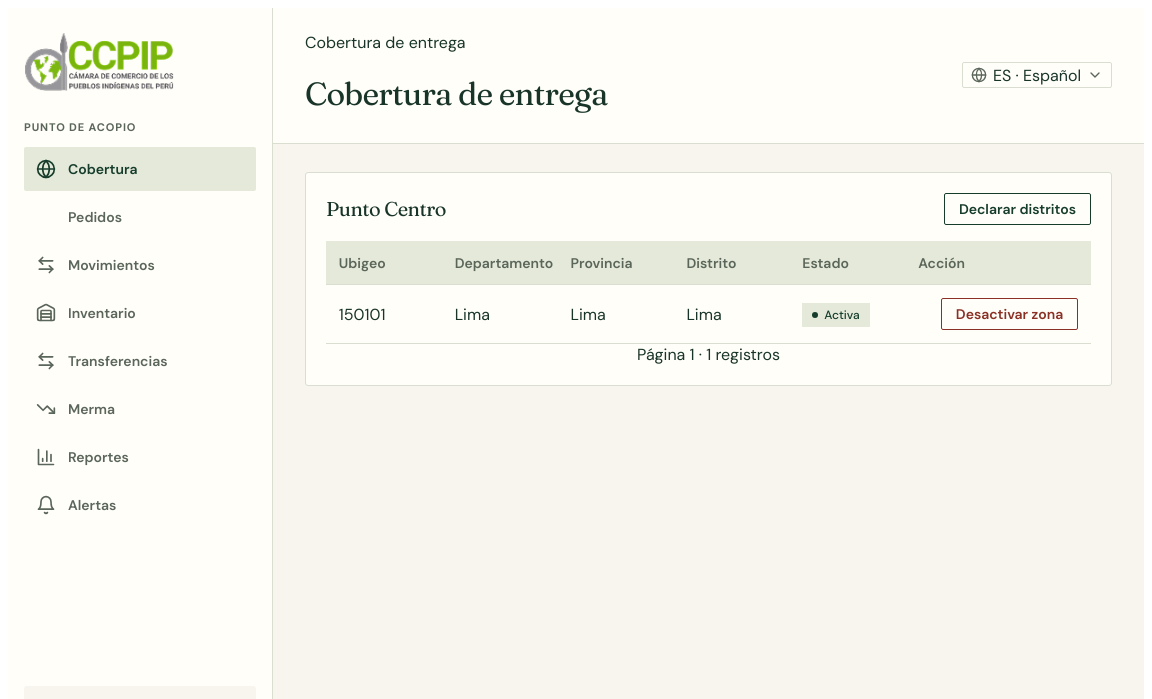
Test: CCPIP-497: desactivar una zona de cobertura se confirma › el diálogo dice que deja de ofrecerse a domicilio y Cancelar no la desactiva
Click the button with aria-label "Desactivar zona · Lima · 150101" at (1010, 314), box [941,298,1078,330]
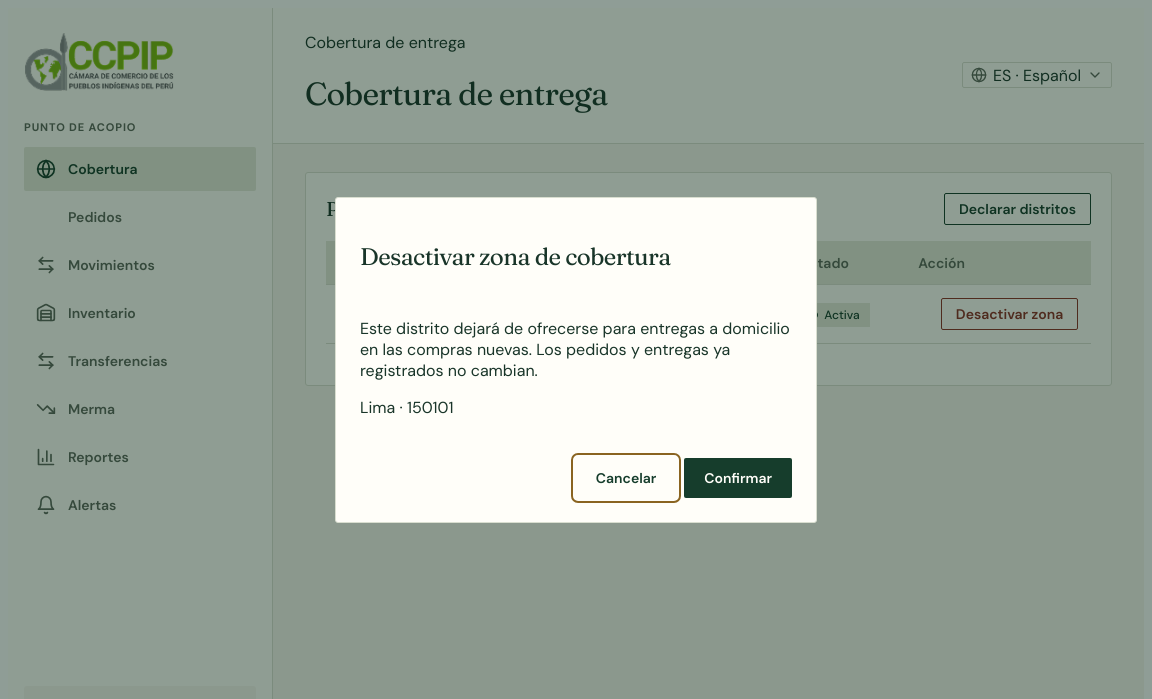
Now the dialog "Desactivar zona de cobertura" shows "dejará de ofrecerse para entregas a domicilio", box [360,318,790,381]
Now the button "Confirmar" is shown, box [684,458,792,498]
Click the button "Cancelar" at (626, 478), box [576,458,676,498]
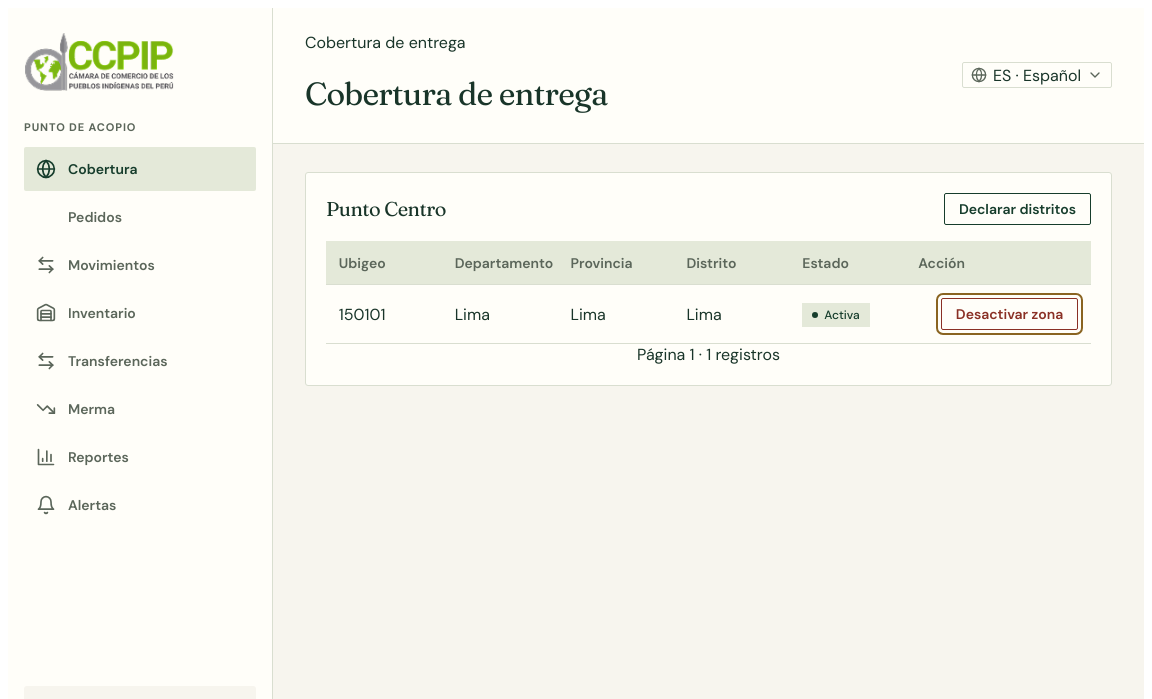
Expected: the text "Activa" is shown, [802,303,870,327]
Now the dialog is gone
